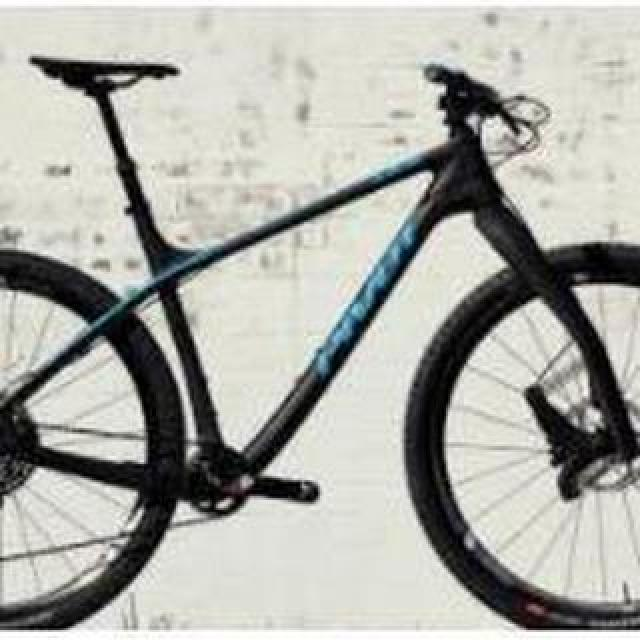Person: (0, 35, 640, 637)
